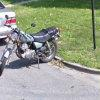Motorcycle: (3, 15, 64, 78)
